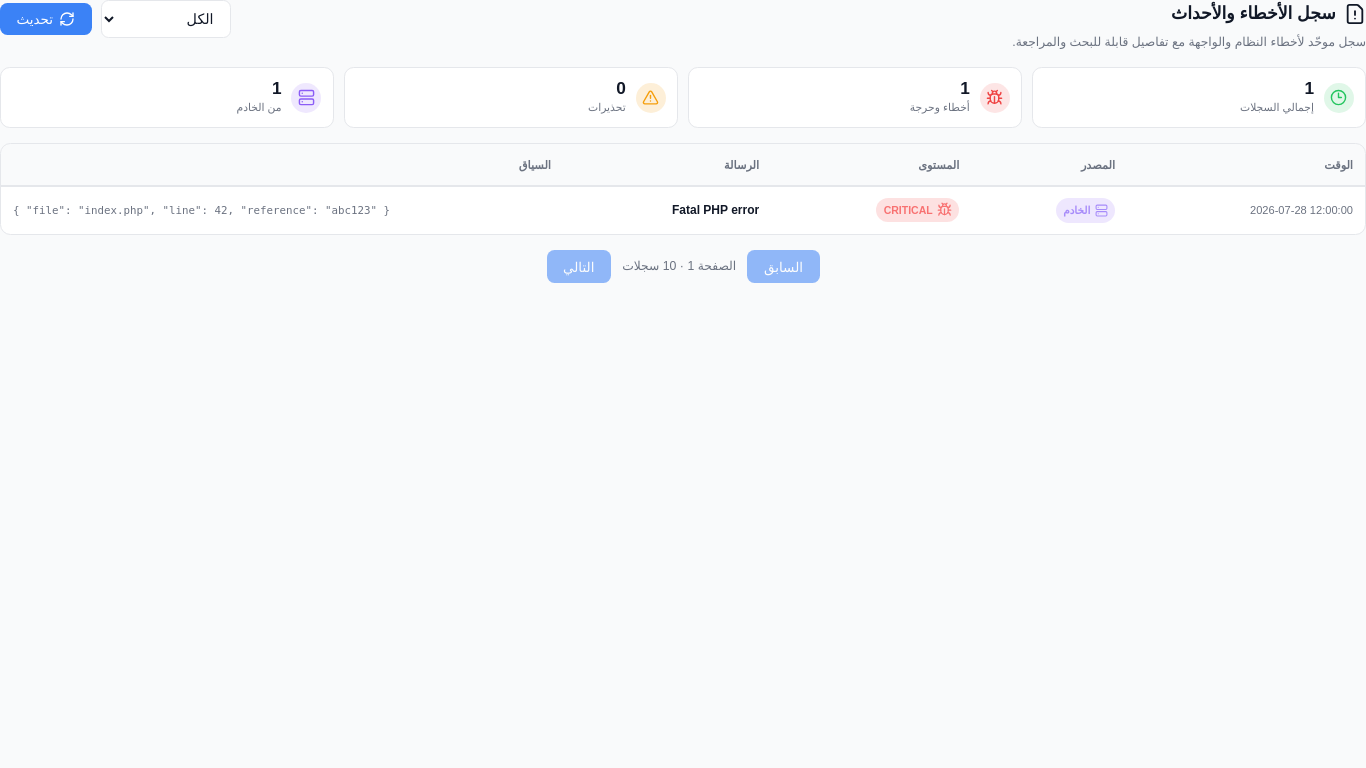
Scenario: LogViewer › opens a complete error detail dialog when a row is selected
This screenshot has width=1366, height=768.
Click the button with aria-label "عرض تفاصيل الخطأ: Fatal PHP error" at x=683, y=210, box [1,186,1365,234]
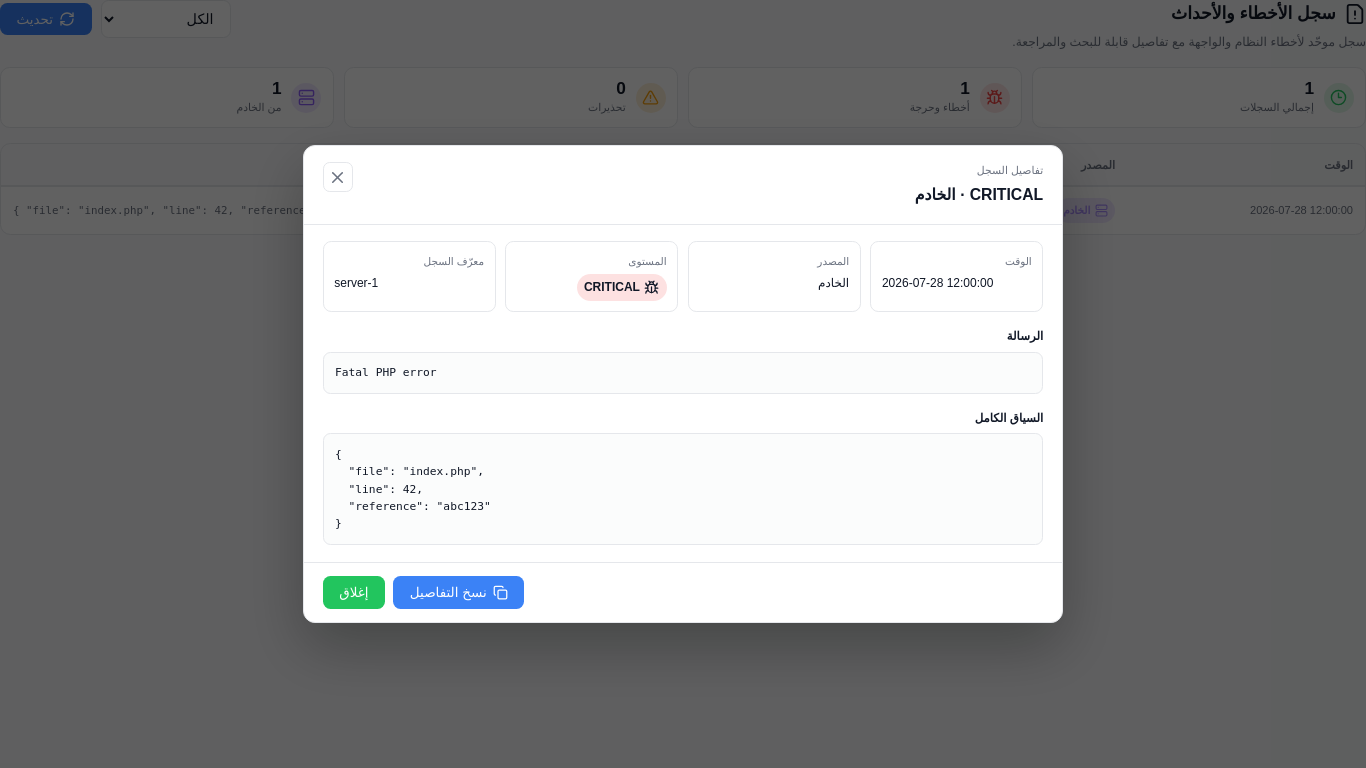
Expected: the text "Fatal PHP error" is shown, [563,186,771,234]
Expected: the dialog is shown, [303,145,1063,623]
